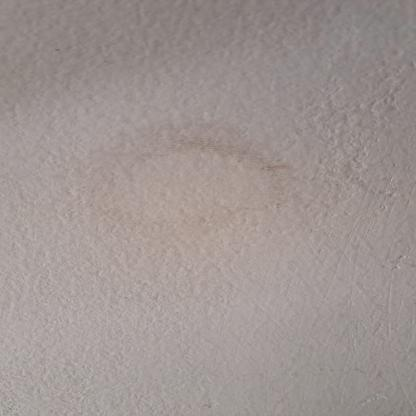spot: (54, 111, 340, 249), (141, 164, 256, 212)
